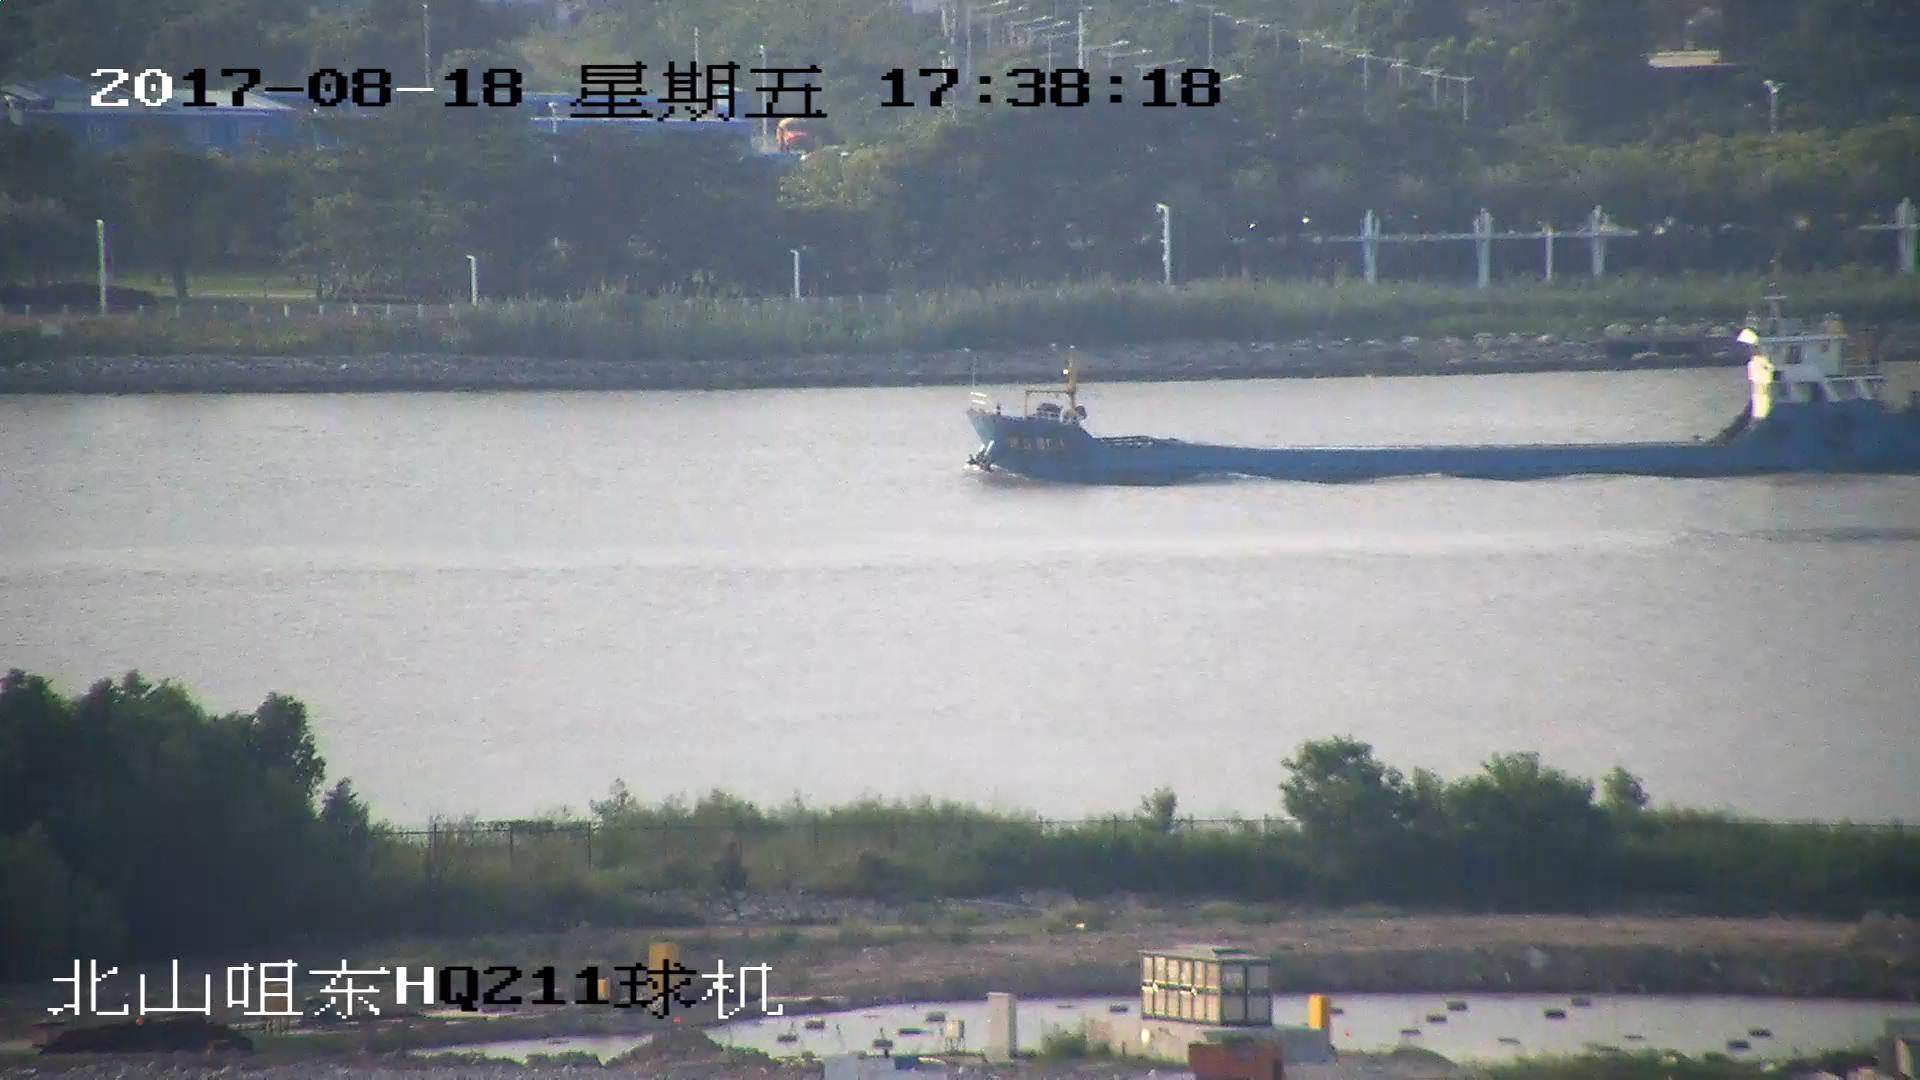Ship: (964, 266, 1920, 483)
